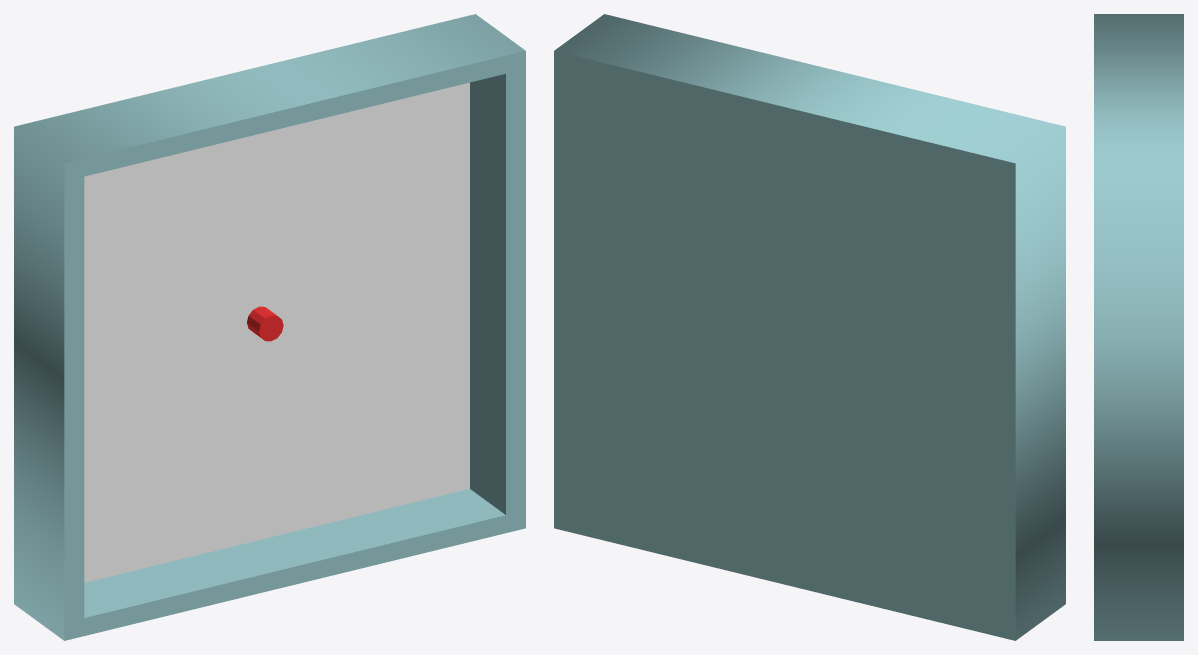
The model's file is Itr_Obj_clock3_06.FBX.
The picture shows the model from 3 angles, left to right: view 1: azimuth 30°, elevation 25°; view 2: azimuth 150°, elevation 25°; view 3: azimuth 270°, elevation 25°; orthographic projection. The views are drawn at different scales.
Parts seen in each view (by area): view 1: Itr_Obj_clock3_06; view 2: Itr_Obj_clock3_06; view 3: Itr_Obj_clock3_06.
Boxes of the visible parts, x1,y1,x2,y2 form: Itr_Obj_clock3_06: (14, 14, 525, 640); Itr_Obj_clock3_06: (554, 14, 1065, 640); Itr_Obj_clock3_06: (1094, 14, 1183, 640).
Size of the model in its own units: 10.59 by 10.47 by 2.
